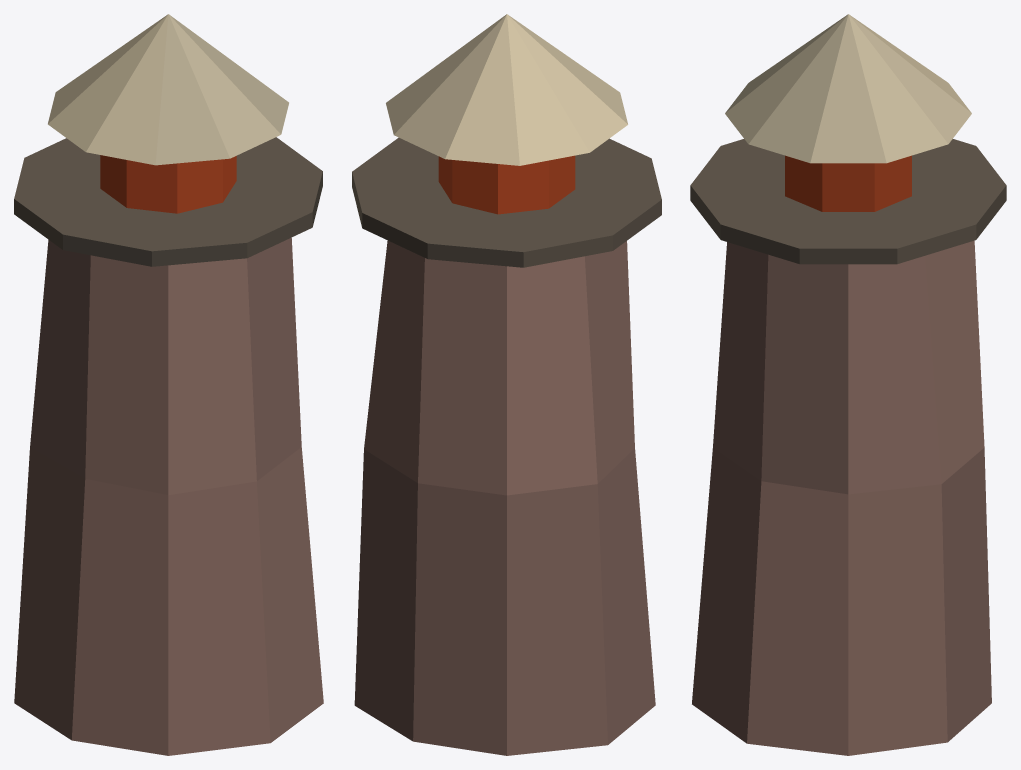
The model's file is walk_reef_tower.glb.
3 renders of one model, left to right at view 1: azimuth 30°, elevation 25°; view 2: azimuth 150°, elevation 25°; view 3: azimuth 270°, elevation 25°, orthographic.
Parts seen in each view (by area): view 1: walk_reef_tower, walk_reef_tower_roof; view 2: walk_reef_tower, walk_reef_tower_roof; view 3: walk_reef_tower, walk_reef_tower_roof.
Boxes of the visible parts, <box> form: walk_reef_tower: <box>14,137,323,755</box>; walk_reef_tower_roof: <box>48,14,288,165</box>; walk_reef_tower: <box>352,137,661,755</box>; walk_reef_tower_roof: <box>386,14,627,165</box>; walk_reef_tower: <box>690,139,1006,755</box>; walk_reef_tower_roof: <box>725,14,971,163</box>.
Size of what is drawn, in the model's own units: 4.37 by 10.9 by 4.6.
Materials: 1 (1 with a texture image).
